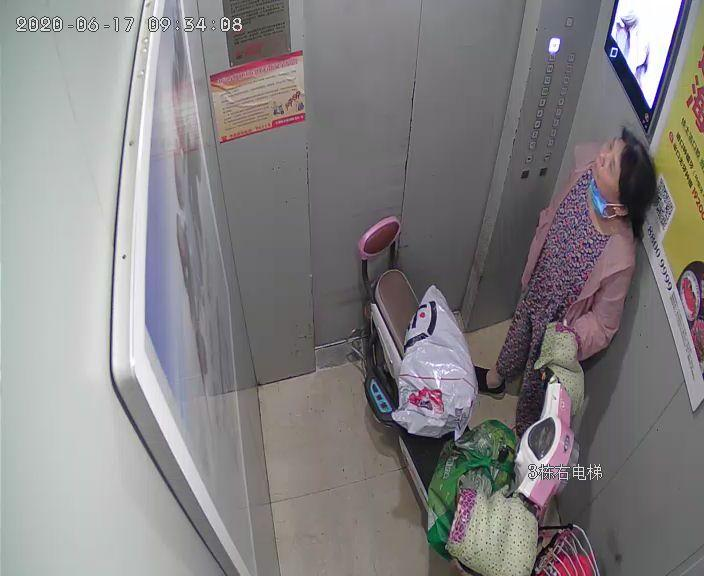Electric-bicycle: (356, 217, 597, 575)
